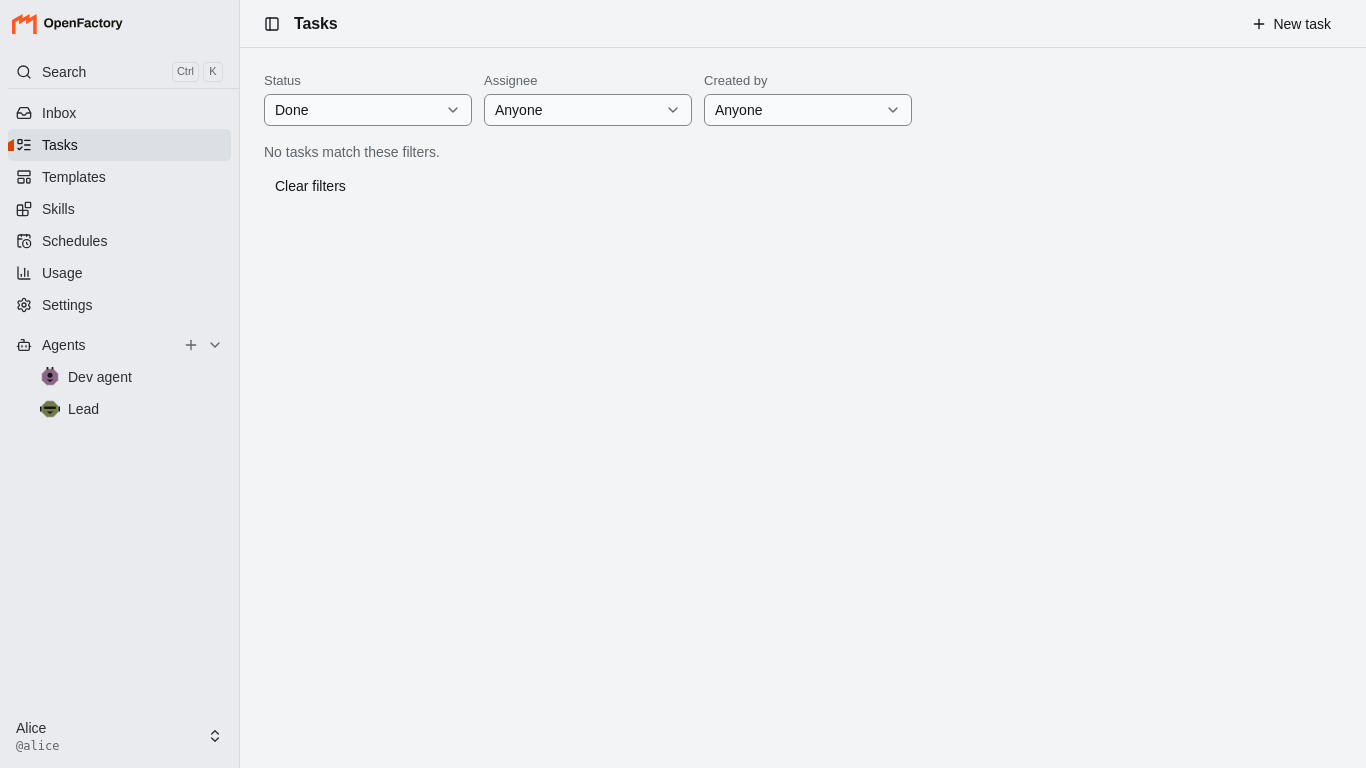
it: empty with another filter says so and Clear filters resets
Expected: the text "No tasks match these filters." is shown, [264, 142, 440, 162]
Click the button "Clear filters": coordinates (310, 186) [264, 170, 357, 202]
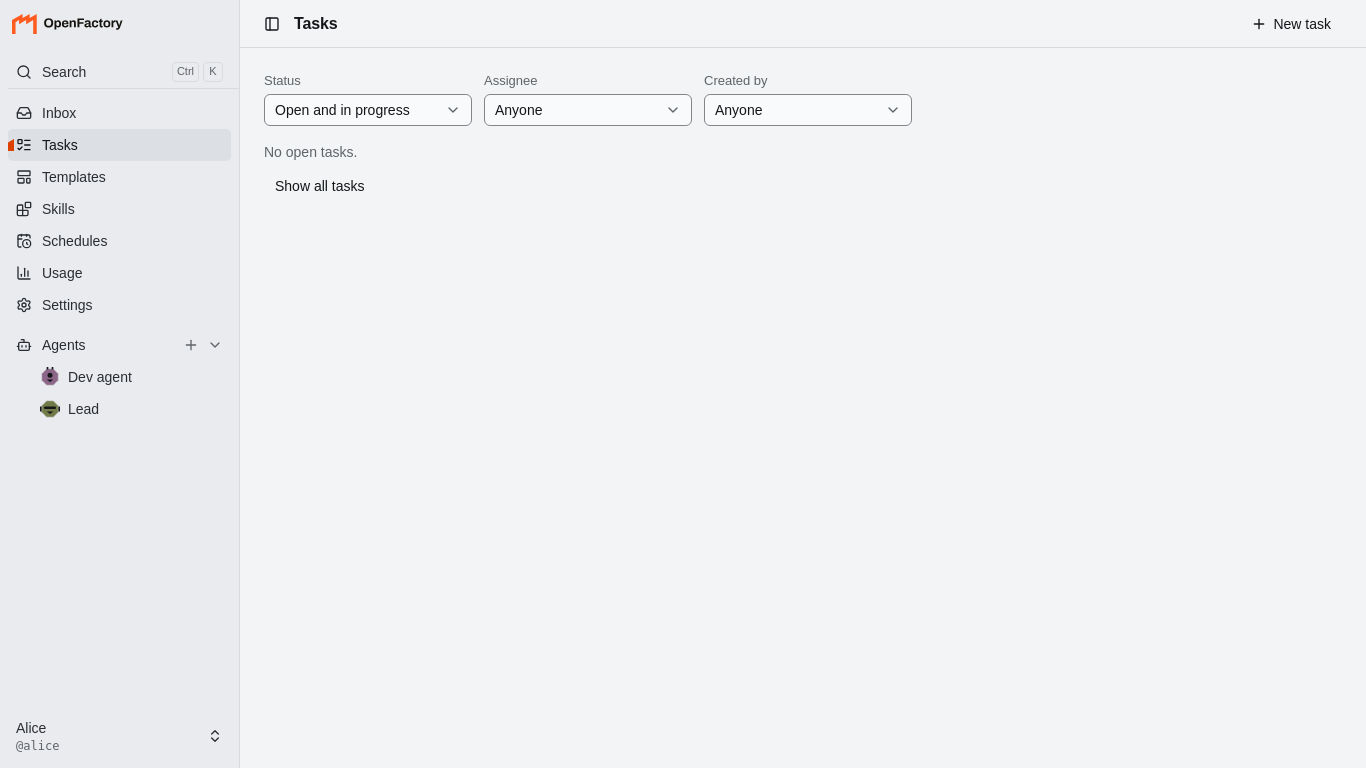
Result: the text "No open tasks." is shown at [264, 142, 357, 162]
